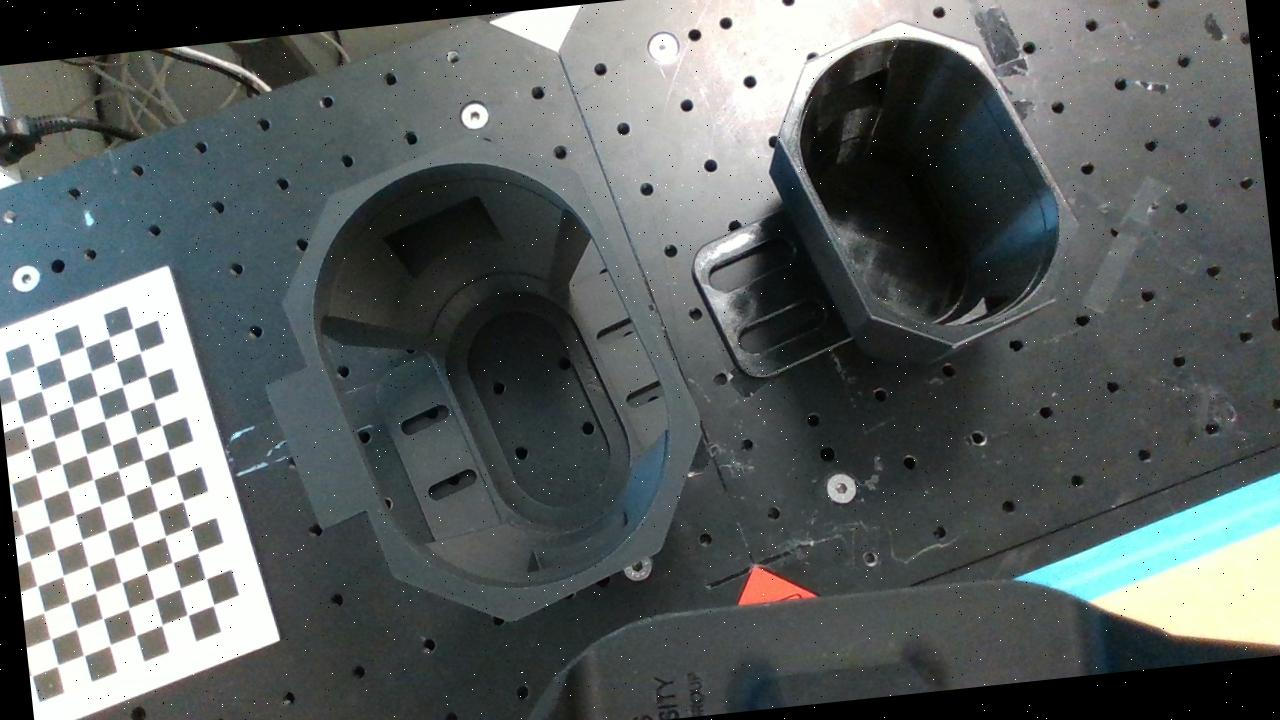big_interface: (266, 115, 722, 642)
small_interface: (768, 2, 1094, 364)
